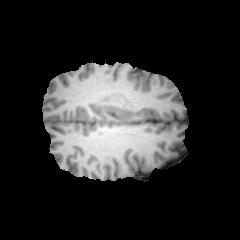glioma: (71, 93, 136, 121)
